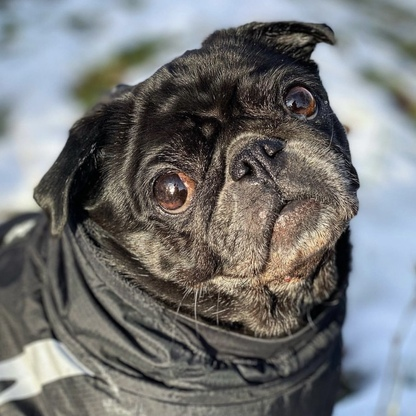Pug: (1, 13, 363, 416)
